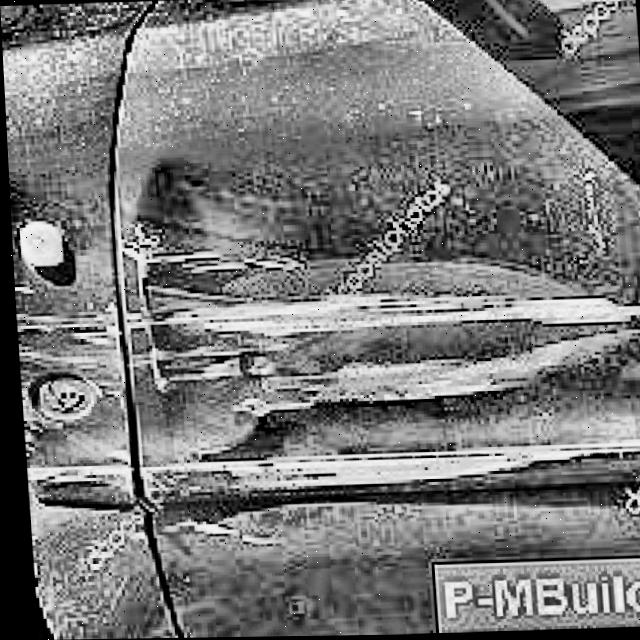door_dent: (13, 237, 640, 429)
door_scratch: (16, 269, 607, 412)
